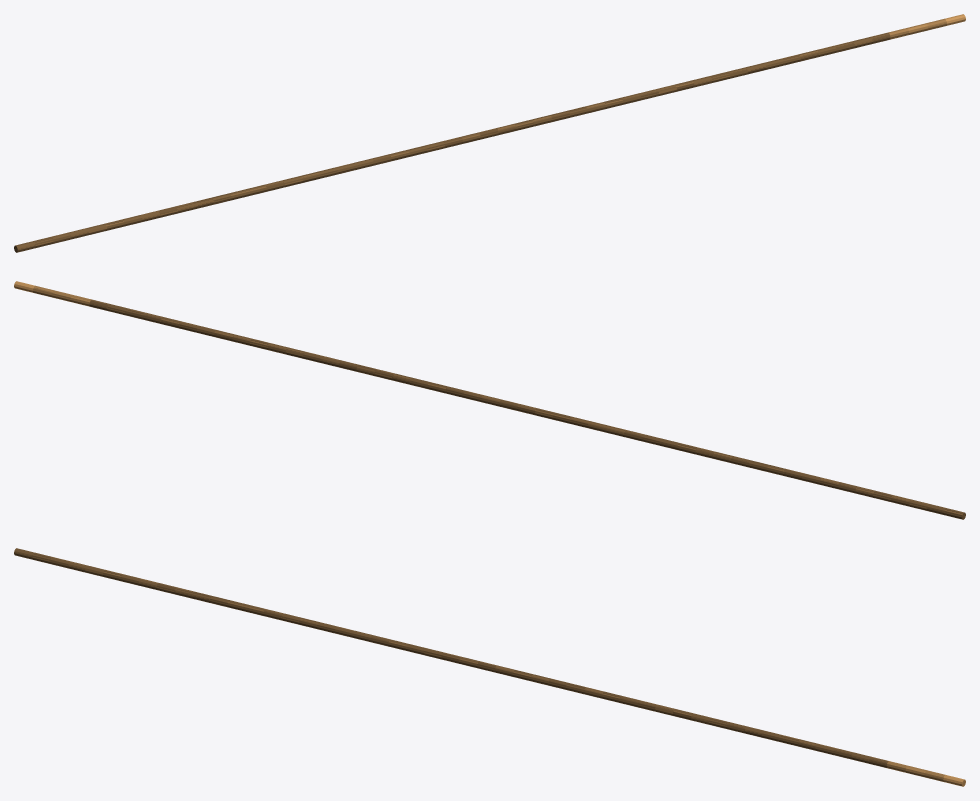
Rendered from brazing_rod_bronze.glb.
3 views of the same model, one above another, from view 1: azimuth 30°, elevation 25°; view 2: azimuth 150°, elevation 25°; view 3: azimuth 330°, elevation 25° (orthographic).
Visible parts, largest first — view 1: block_flux coating, block_bare grip end; view 2: block_flux coating, block_bare grip end; view 3: block_flux coating, block_bare grip end.
Part boxes in pixels (x1,y1,x2,y2): block_flux coating: (15,32,890,252); block_bare grip end: (888,14,965,39); block_flux coating: (89,299,963,519); block_bare grip end: (14,281,91,306); block_flux coating: (14,548,888,768); block_bare grip end: (886,761,965,786).
Bounding box in the file's own units: 0.46 × 0.00304 × 0.0032.
Materials: 1 (1 with a texture image).
